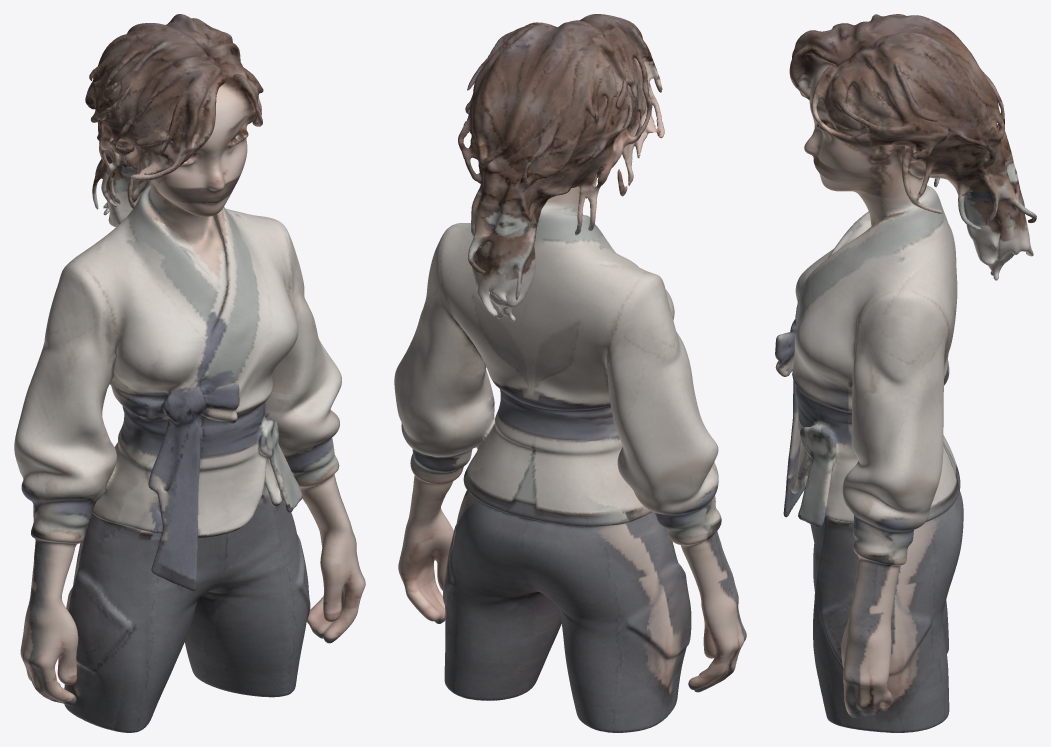
Rendered from Vaelyn_Perfect_PBR.glb.
The picture shows the model from 3 angles, left to right: view 1: azimuth 30°, elevation 25°; view 2: azimuth 150°, elevation 25°; view 3: azimuth 270°, elevation 25°; orthographic projection.
Parts seen in each view (by area): view 1: Korean_Warrior_Female.glb; view 2: Korean_Warrior_Female.glb; view 3: Korean_Warrior_Female.glb.
Boxes of the visible parts, x1,y1,x2,y2 form: Korean_Warrior_Female.glb: (14, 14, 365, 732); Korean_Warrior_Female.glb: (394, 14, 746, 732); Korean_Warrior_Female.glb: (775, 14, 1036, 732).
Bounding box in the file's own units: 1.05 × 2 × 0.7158.
